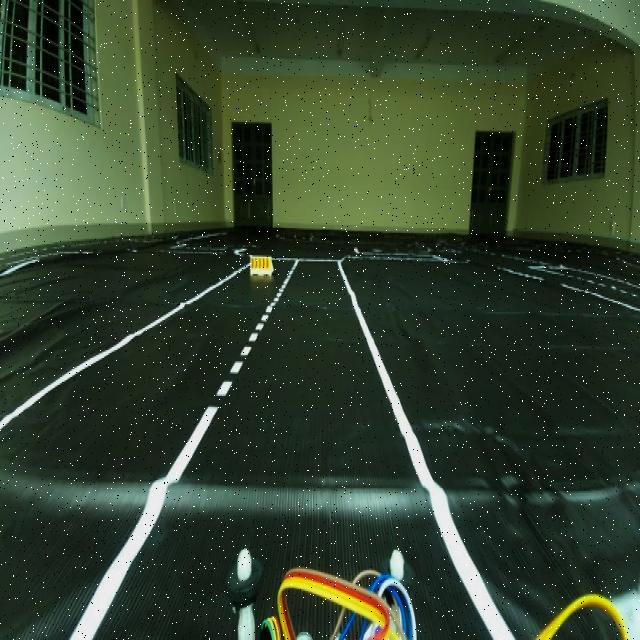roadblock: (246, 250, 270, 282)
